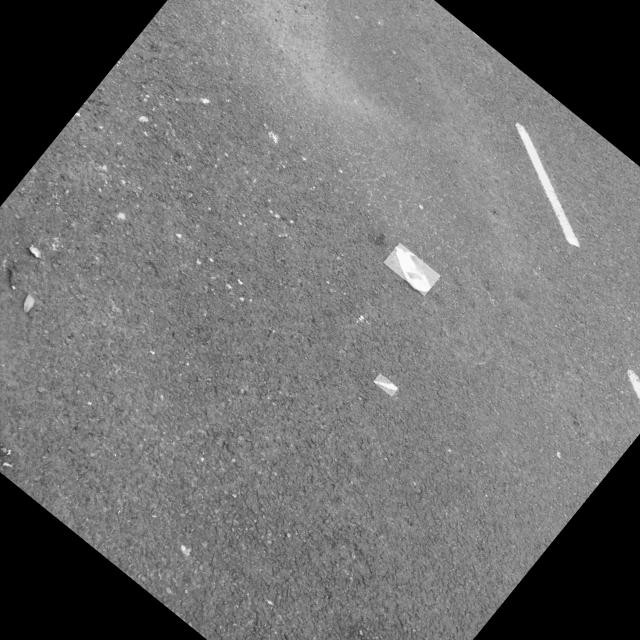Drink can: (394, 247, 430, 292)
Unlabeled litter: (373, 381, 396, 390)
